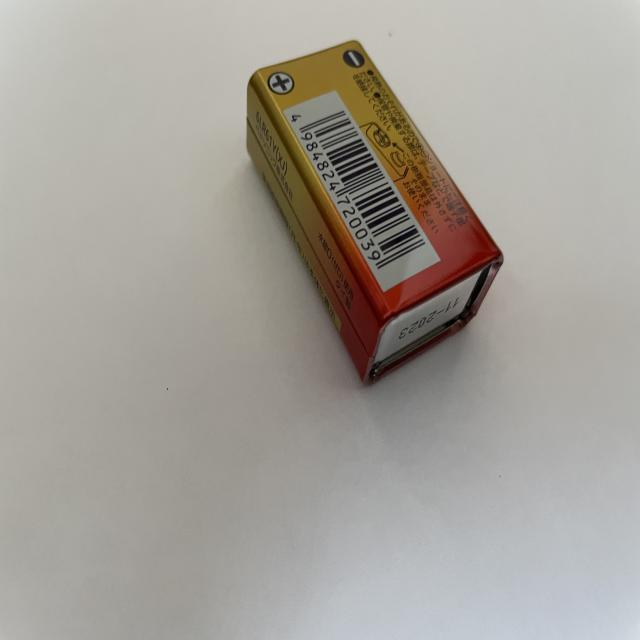9V: (245, 36, 505, 384)
